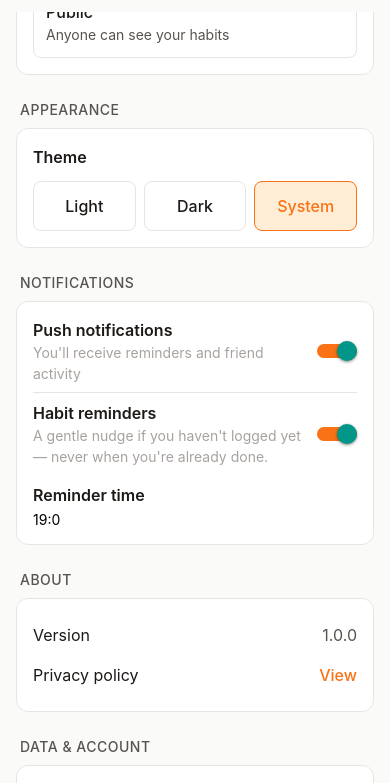
Test: SettingsScreen — Notifications Section › hides time picker after toggling habit reminders off
(page scrolled)
Check: the element with test id "habit-reminder-details" is shown, box [33,485,145,528]
Click the switch with test id "habit-reminders-toggle" at (337, 434), box [317,424,357,444]
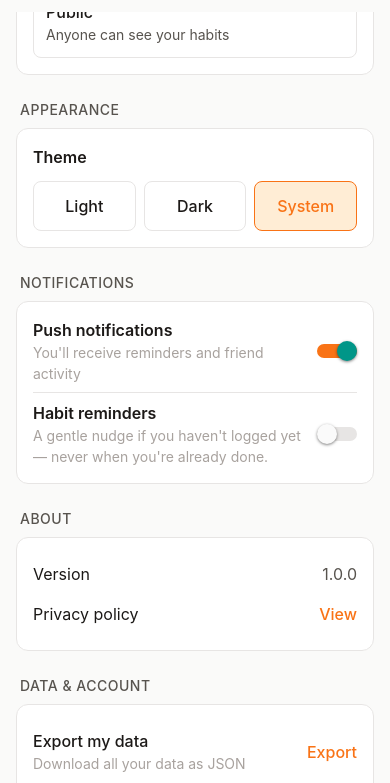
Check: the element with test id "habit-reminder-details" is gone
